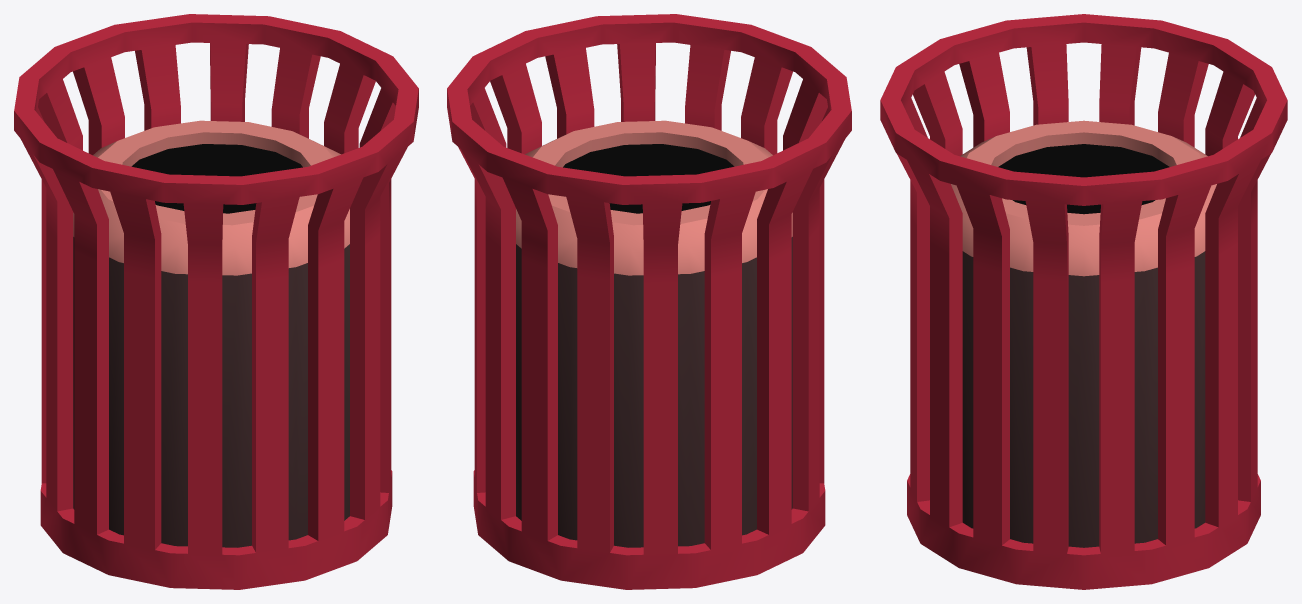
File: garbocan.fbx
The picture shows the model from 3 angles, left to right: view 1: azimuth 30°, elevation 25°; view 2: azimuth 150°, elevation 25°; view 3: azimuth 270°, elevation 25°; orthographic projection.
Visible parts, largest first — view 1: Cylinder.001; view 2: Cylinder.001; view 3: Cylinder.001.
Part boxes in pixels (x1,y1,x2,y2): Cylinder.001: [14, 14, 418, 589]; Cylinder.001: [447, 14, 851, 589]; Cylinder.001: [880, 14, 1287, 589].
Bounding box in the file's own units: 160 × 180 × 160.
